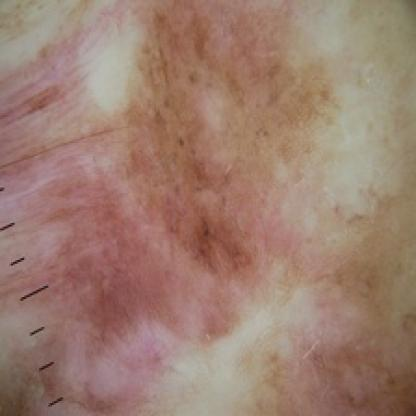malignant: (19, 37, 273, 336)
